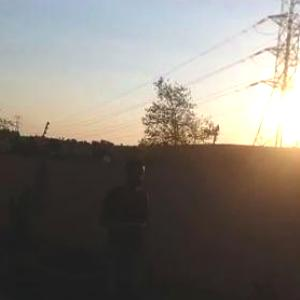follow: (95, 153, 153, 299)
